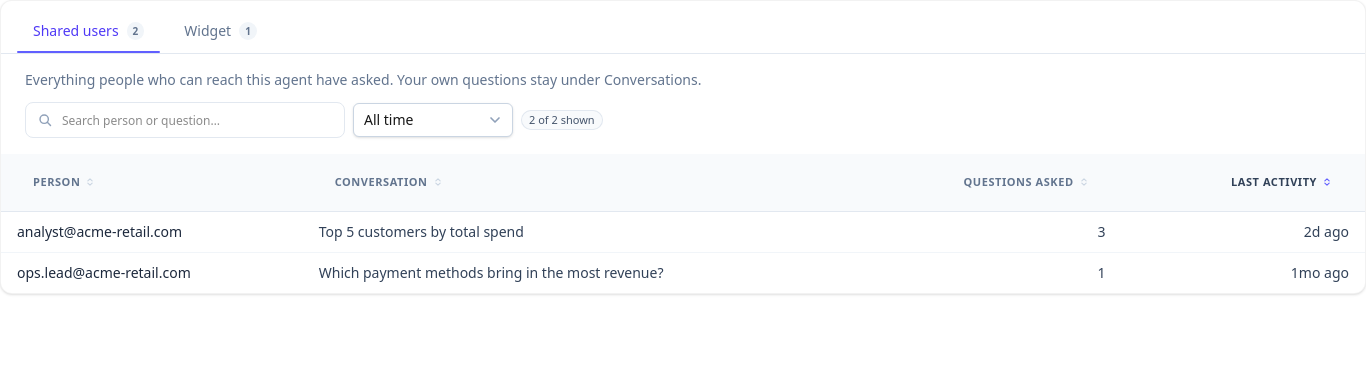
Test: Share → Activity › says so when a turn recorded no query, instead of showing nothing
Click the text "Top 5 customers by total spend" at (421, 231), box x1=303 y1=211 x2=843 y2=252
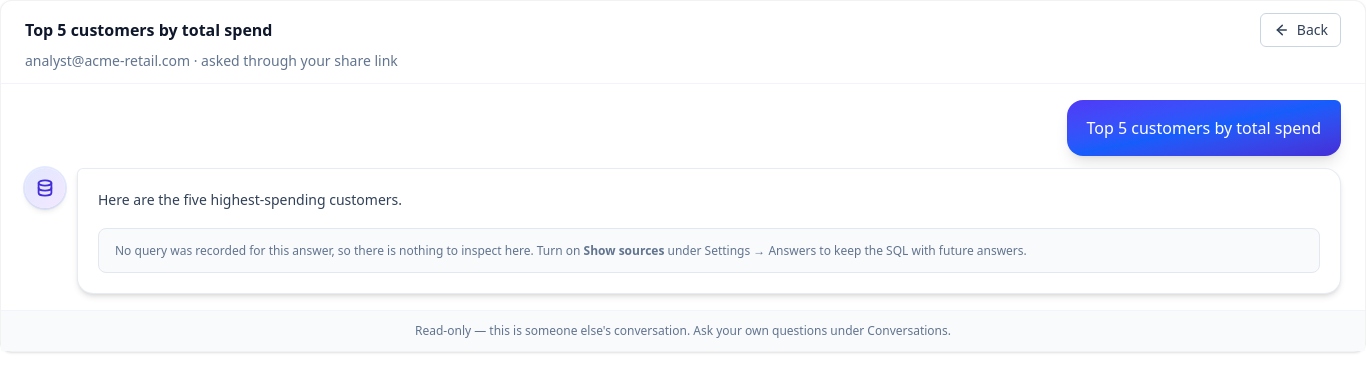
expect the text "No query was recorded" is shown: met, box x1=115 y1=242 x2=580 y2=259
expect the text "Show sources" is shown: met, box x1=584 y1=242 x2=664 y2=259
expect the text "Here are the five highest-spending customers." is shown: met, box x1=98 y1=190 x2=402 y2=209
